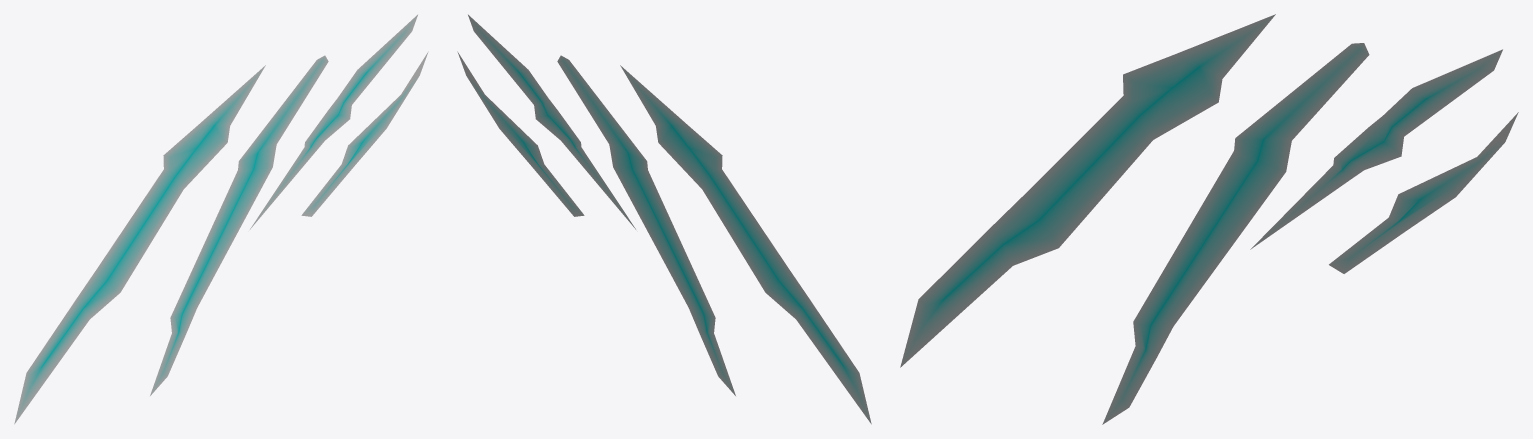
File: SM_EFF_Text_Chidori_01.glb
The picture shows the model from 3 angles, left to right: view 1: azimuth 30°, elevation 25°; view 2: azimuth 150°, elevation 25°; view 3: azimuth 330°, elevation 25°; orthographic projection. The views are drawn at different scales.
Visible parts, largest first — view 1: SM_EFF_Text_Chidori_01; view 2: SM_EFF_Text_Chidori_01; view 3: SM_EFF_Text_Chidori_01.
Part boxes in pixels (x1,y1,x2,y2): SM_EFF_Text_Chidori_01: (14,14,428,424); SM_EFF_Text_Chidori_01: (457,14,871,424); SM_EFF_Text_Chidori_01: (900,14,1518,424).
Size of the model in its own units: 0.9707 by 0.71 by 4.35e-17.
